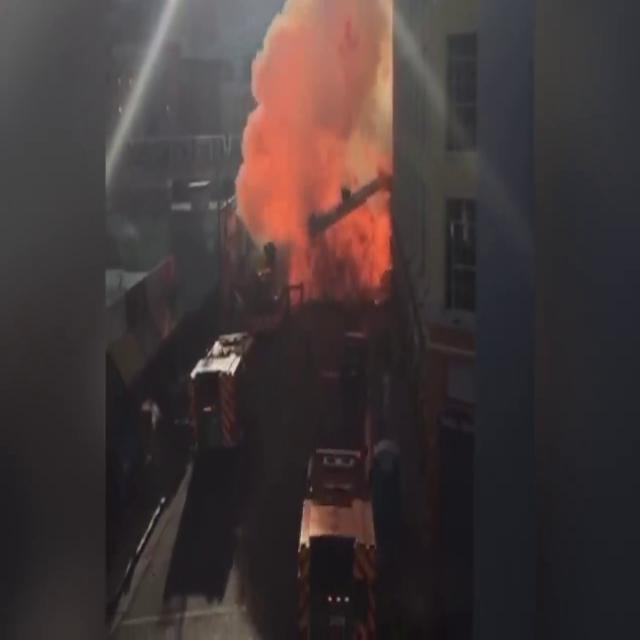Smoke: (224, 1, 402, 286)
